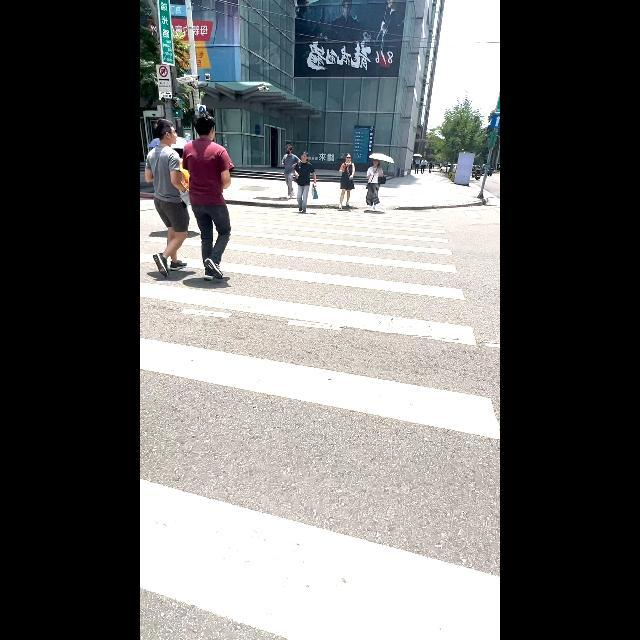sidewalk: (140, 204, 500, 640)
